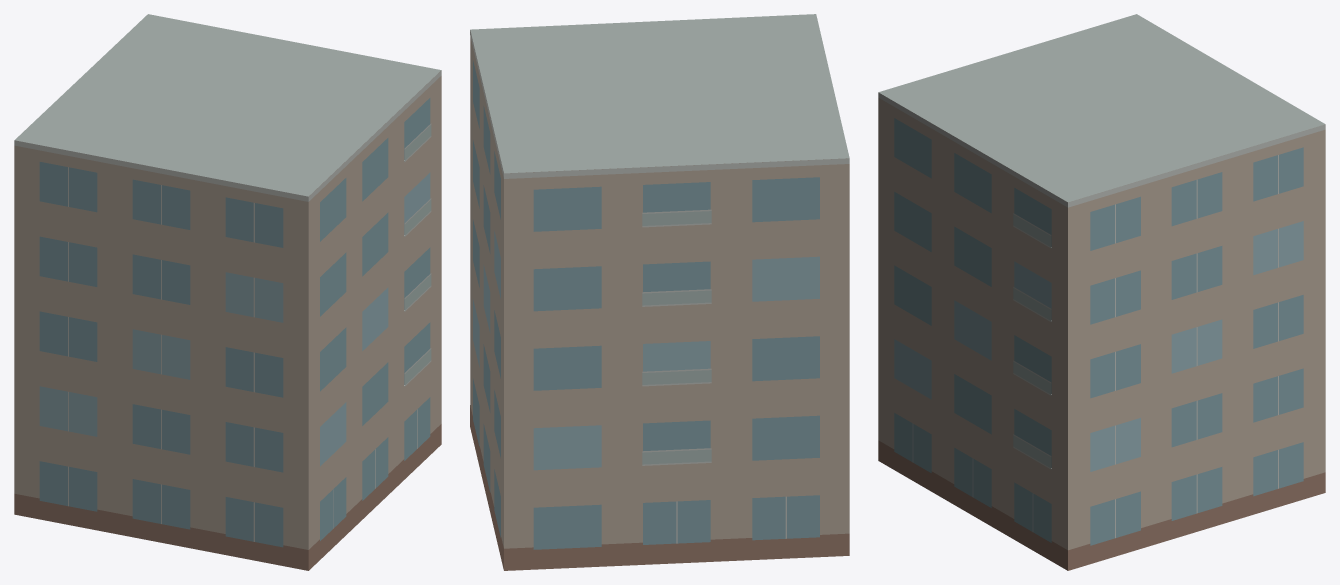
File: survey-upis-33005148.glb
3 renders of one model, left to right at view 1: azimuth 30°, elevation 25°; view 2: azimuth 150°, elevation 25°; view 3: azimuth 270°, elevation 25°, orthographic. The views are drawn at different scales.
Visible parts, largest first — view 1: survey-upis-33005148.tmp; view 2: survey-upis-33005148.tmp; view 3: survey-upis-33005148.tmp.
Boxes of the visible parts, <box> form: survey-upis-33005148.tmp: <box>14,14,441,570</box>; survey-upis-33005148.tmp: <box>470,14,849,570</box>; survey-upis-33005148.tmp: <box>878,14,1325,570</box>.
Bounding box in the file's own units: 18.87 × 17.2 × 18.94.
